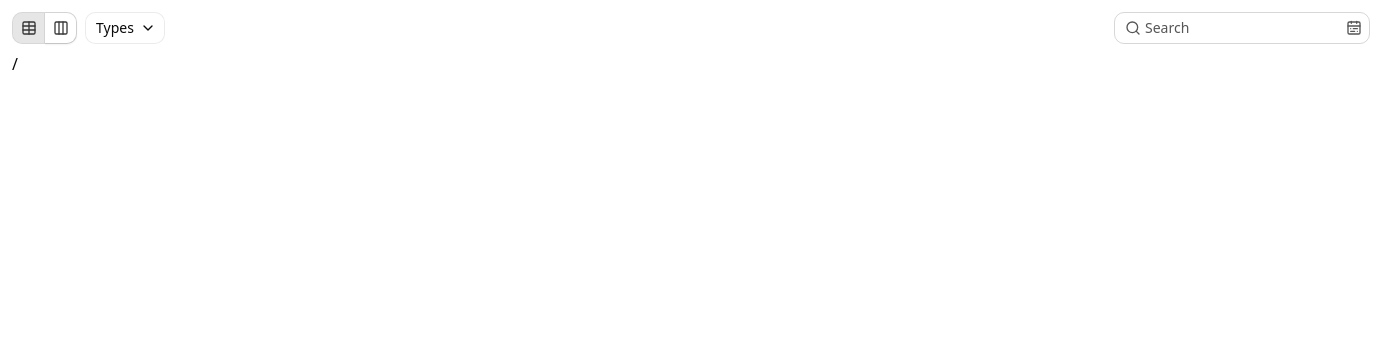
Test: Feed toolbar filters › shows chips only for active types and keeps them in sync with the menu
The image size is (1378, 343).
Check: the button "Avatar" is not shown
Check: the button "All" is not shown
Click the button with aria-label "Type: All": (125, 28) x1=85 y1=12 x2=165 y2=44
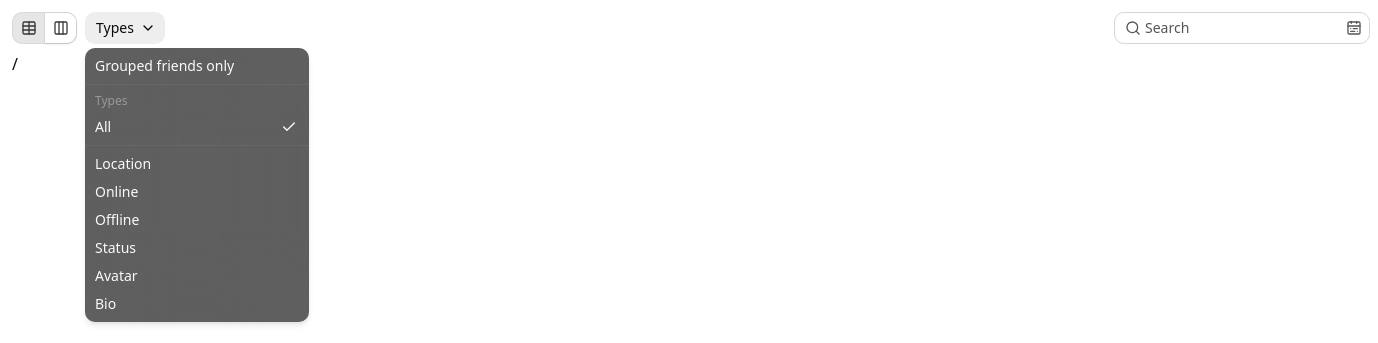
Click the menu item "Avatar": (116, 276) x1=95 y1=266 x2=138 y2=285
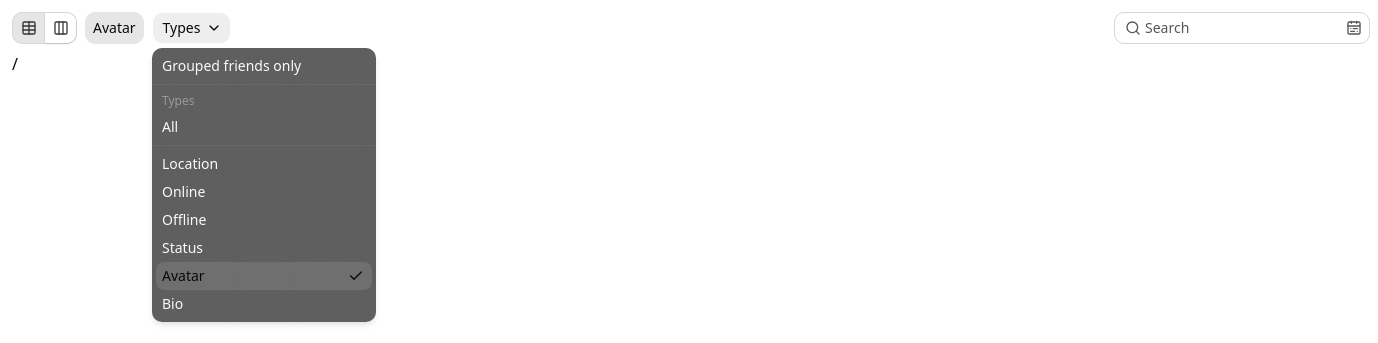
Click the menu item "Location": (190, 164) x1=162 y1=154 x2=218 y2=173
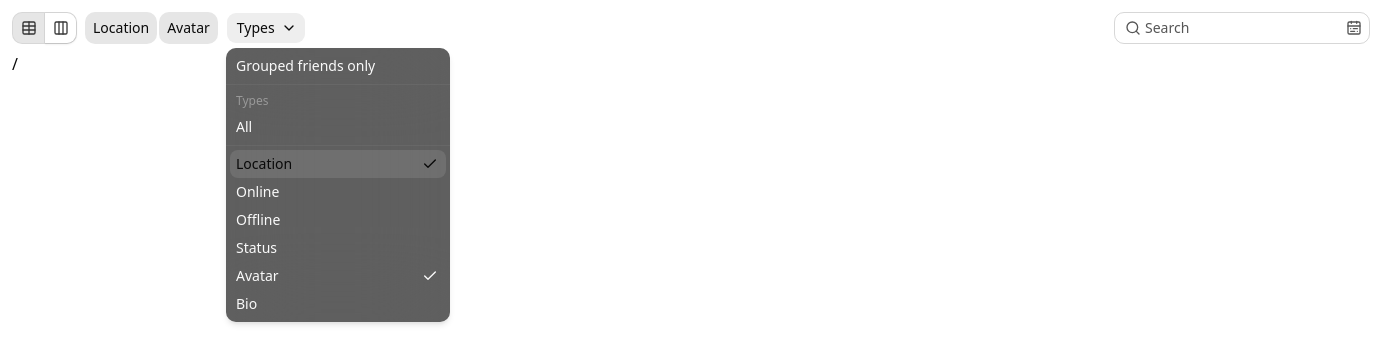
Press Escape
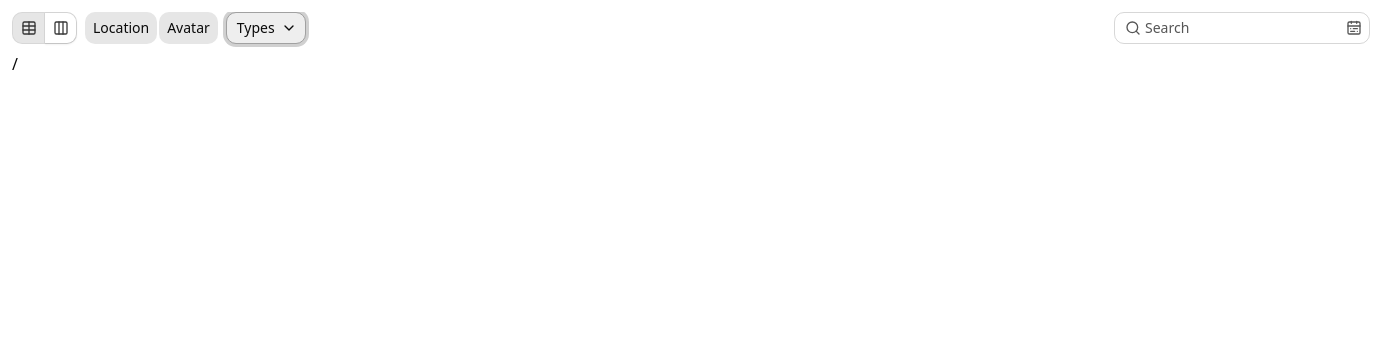
Check: the button with aria-label "Type: Location +1" is shown, box x1=226 y1=12 x2=306 y2=44
Click the button "Location": (121, 28) x1=85 y1=12 x2=157 y2=44
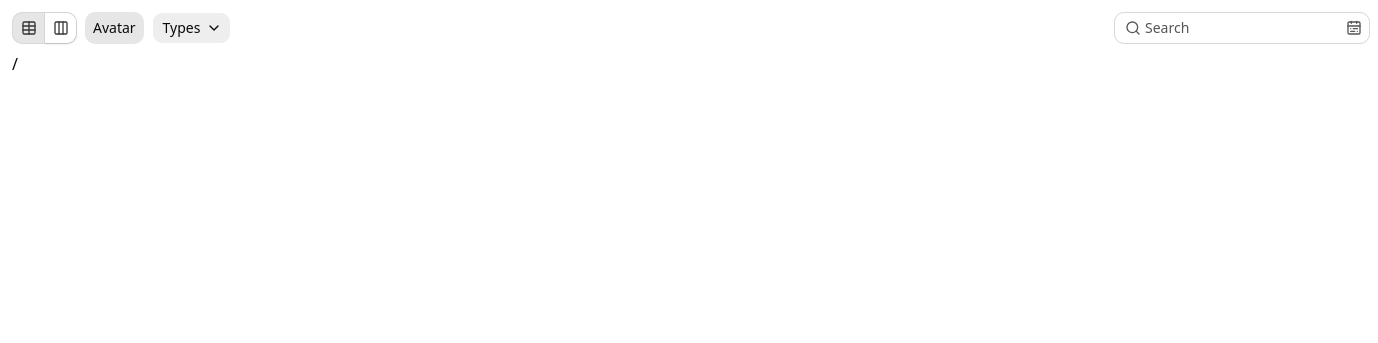
Check: the button "Location" is gone
Check: the button with aria-label "Type: Avatar" is shown, box x1=152 y1=12 x2=232 y2=44
Click the button "Avatar": (114, 28) x1=85 y1=12 x2=144 y2=44
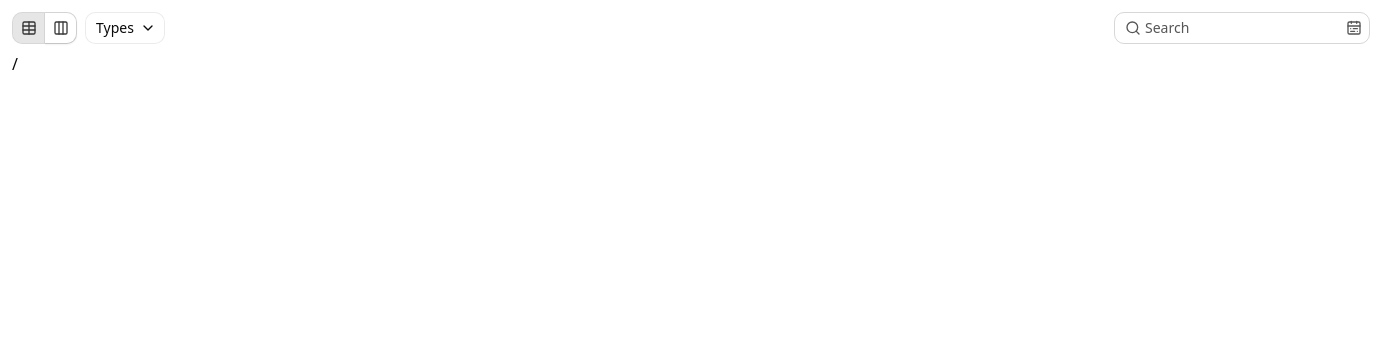
Check: the button "Avatar" is gone
Check: the button with aria-label "Type: All" is shown, box x1=85 y1=12 x2=165 y2=44
